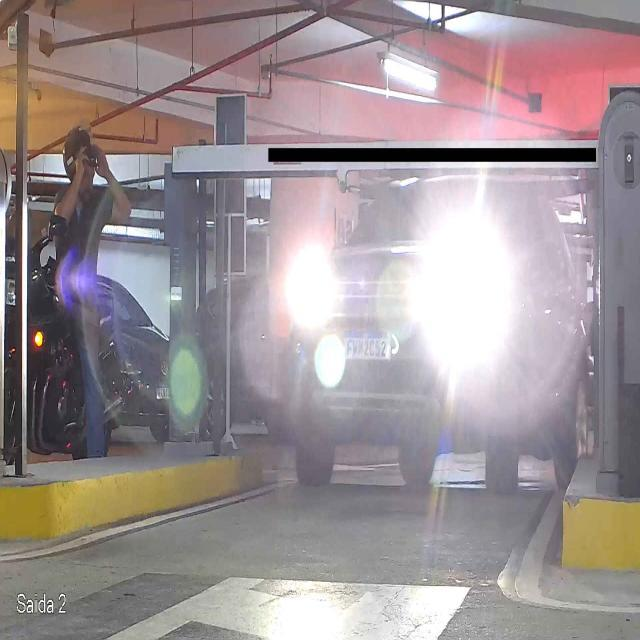mercosul_plate: (342, 330, 392, 362)
